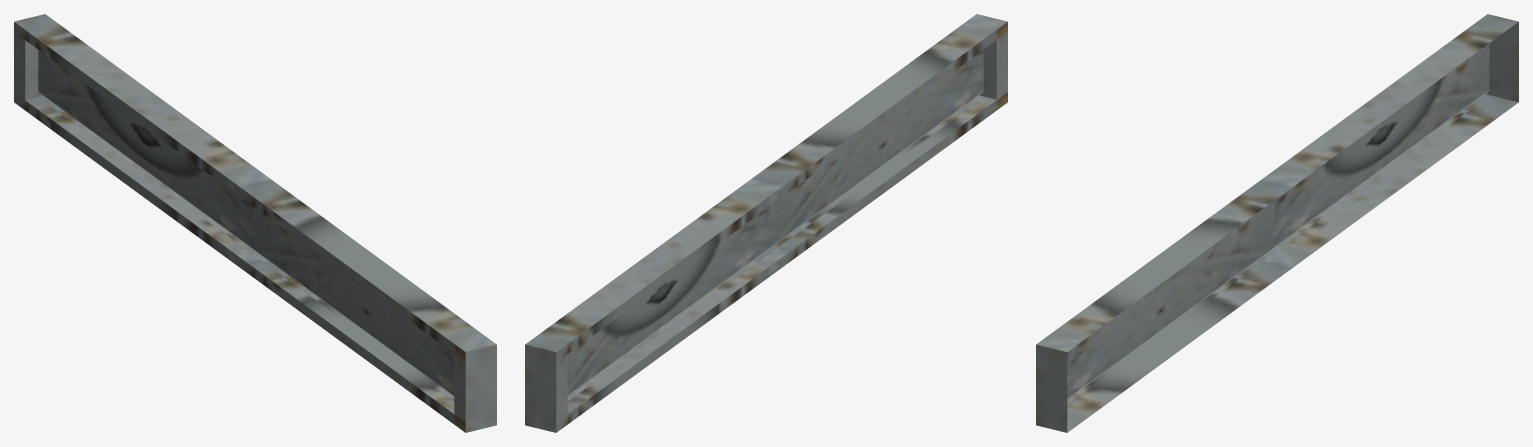
Rendered from SM_CABLES_01.fbx.
3 renders of one model, left to right at view 1: azimuth 30°, elevation 25°; view 2: azimuth 150°, elevation 25°; view 3: azimuth 330°, elevation 25°, orthographic.
Visible parts, largest first — view 1: SM_CABLES_01; view 2: SM_CABLES_01; view 3: SM_CABLES_01.
Boxes of the visible parts, <box> form: SM_CABLES_01: <box>14,14,496,432</box>; SM_CABLES_01: <box>525,14,1007,432</box>; SM_CABLES_01: <box>1036,14,1518,432</box>.
Size of the model in its own units: 0.1598 by 0.3945 by 4.
